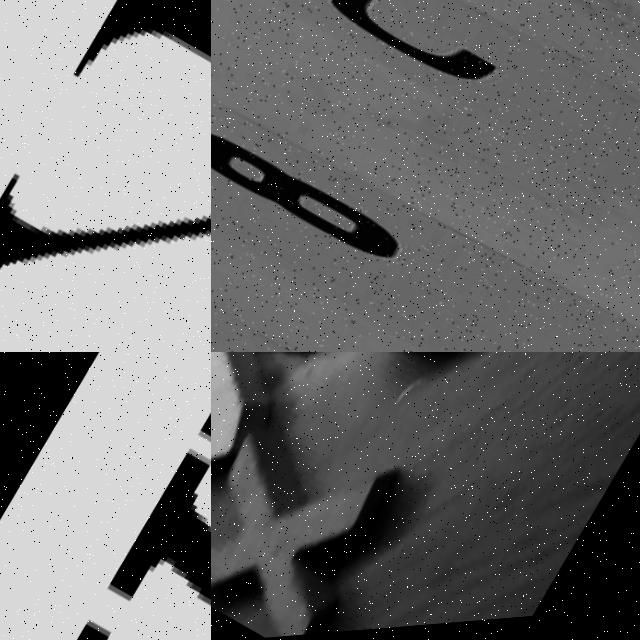0: (211, 300, 533, 352), (367, 0, 640, 49)
5: (243, 0, 509, 128)
8: (211, 92, 417, 302)
J: (261, 352, 596, 447)
W: (0, 352, 211, 640)
X: (211, 384, 413, 640)
Z: (211, 352, 392, 560)
